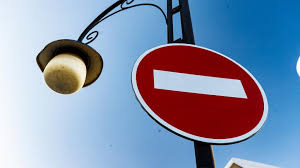No entry: (133, 44, 270, 144)
